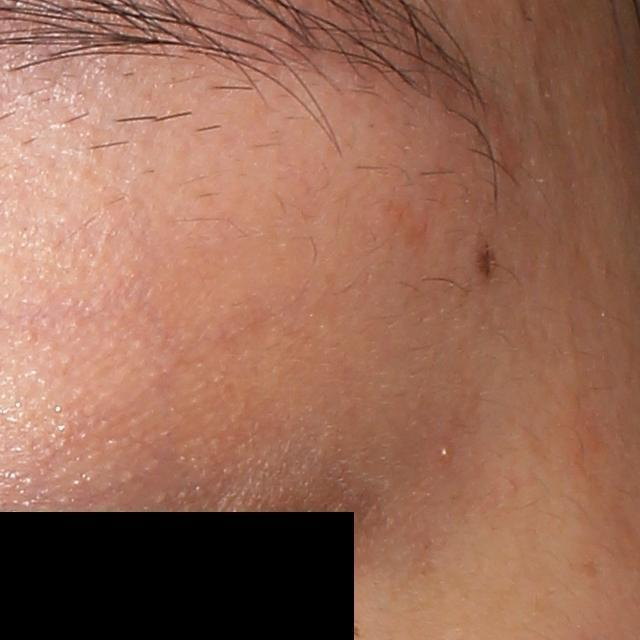nevus: (477, 231, 500, 280)
